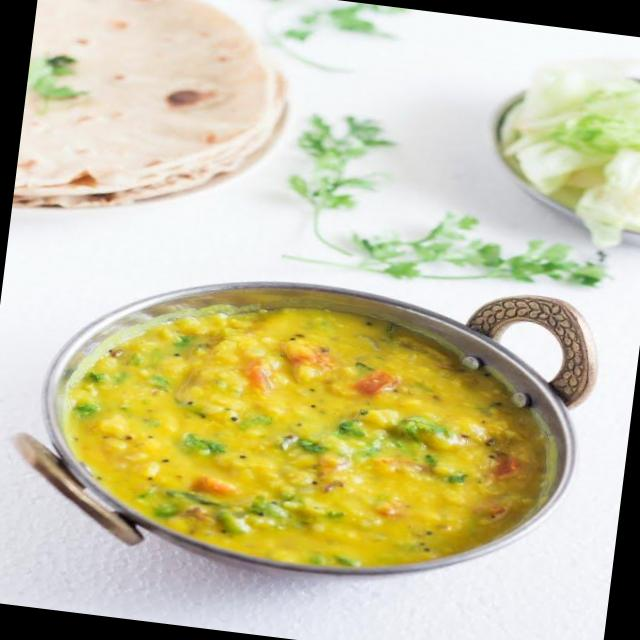dal: (53, 283, 578, 598)
roti: (10, 0, 300, 248)
